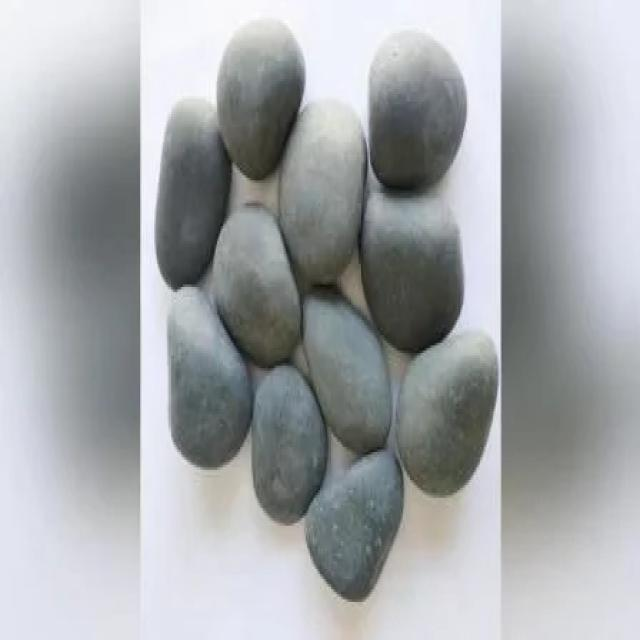Pecahan Agregat: (398, 280, 496, 505), (356, 168, 471, 337), (161, 283, 260, 474), (209, 188, 308, 374), (369, 18, 489, 171), (280, 88, 370, 290), (305, 451, 421, 599), (316, 268, 393, 467), (214, 8, 307, 170), (149, 88, 224, 268), (250, 359, 326, 517)
